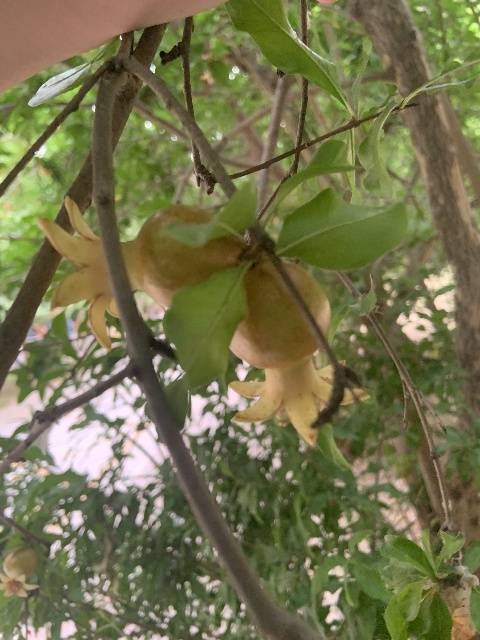early-fruit: (37, 192, 244, 351), (226, 258, 367, 446), (0, 546, 40, 599)
